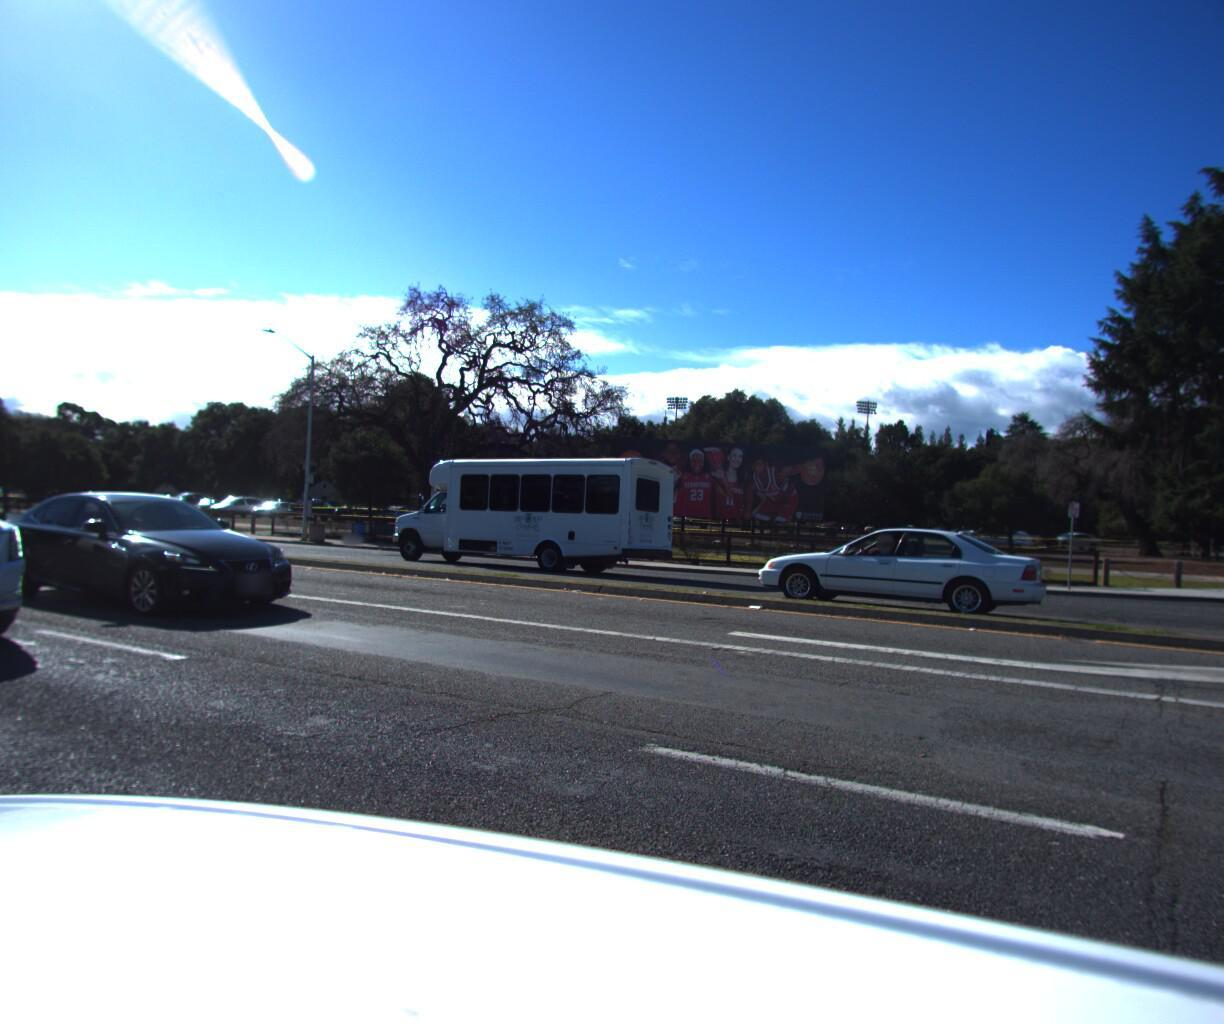bus: (374, 450, 680, 578)
car: (0, 488, 307, 630), (751, 520, 1049, 622), (0, 417, 56, 688), (0, 484, 1, 518)
